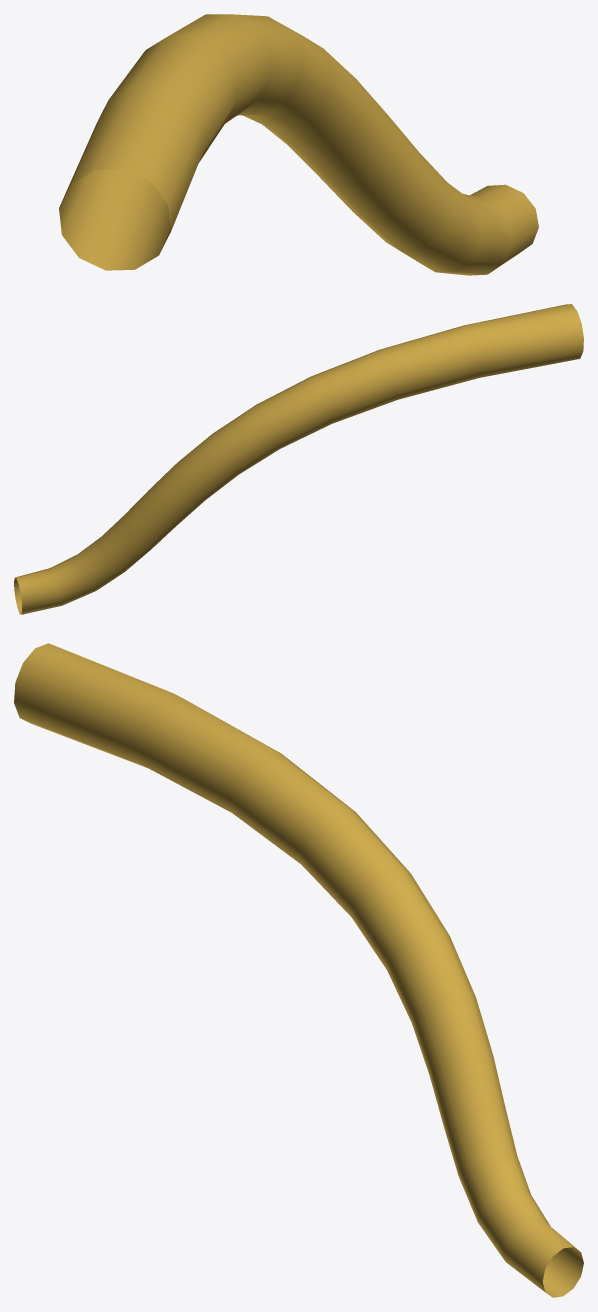
3 views of the same model, one above another, from view 1: azimuth 30°, elevation 25°; view 2: azimuth 150°, elevation 25°; view 3: azimuth 270°, elevation 25° (orthographic). The views are drawn at different scales.
Visible parts, largest first — view 1: 左侧臂丛上干前股; view 2: 左侧臂丛上干前股; view 3: 左侧臂丛上干前股.
Part boxes in pixels (left/top/right/bottom): 左侧臂丛上干前股: left=59, top=14, right=538, bottom=275; 左侧臂丛上干前股: left=14, top=304, right=583, bottom=614; 左侧臂丛上干前股: left=14, top=643, right=583, bottom=1297.
Bounding box in the file's own units: 0.036 × 0.0227 × 0.0303.
